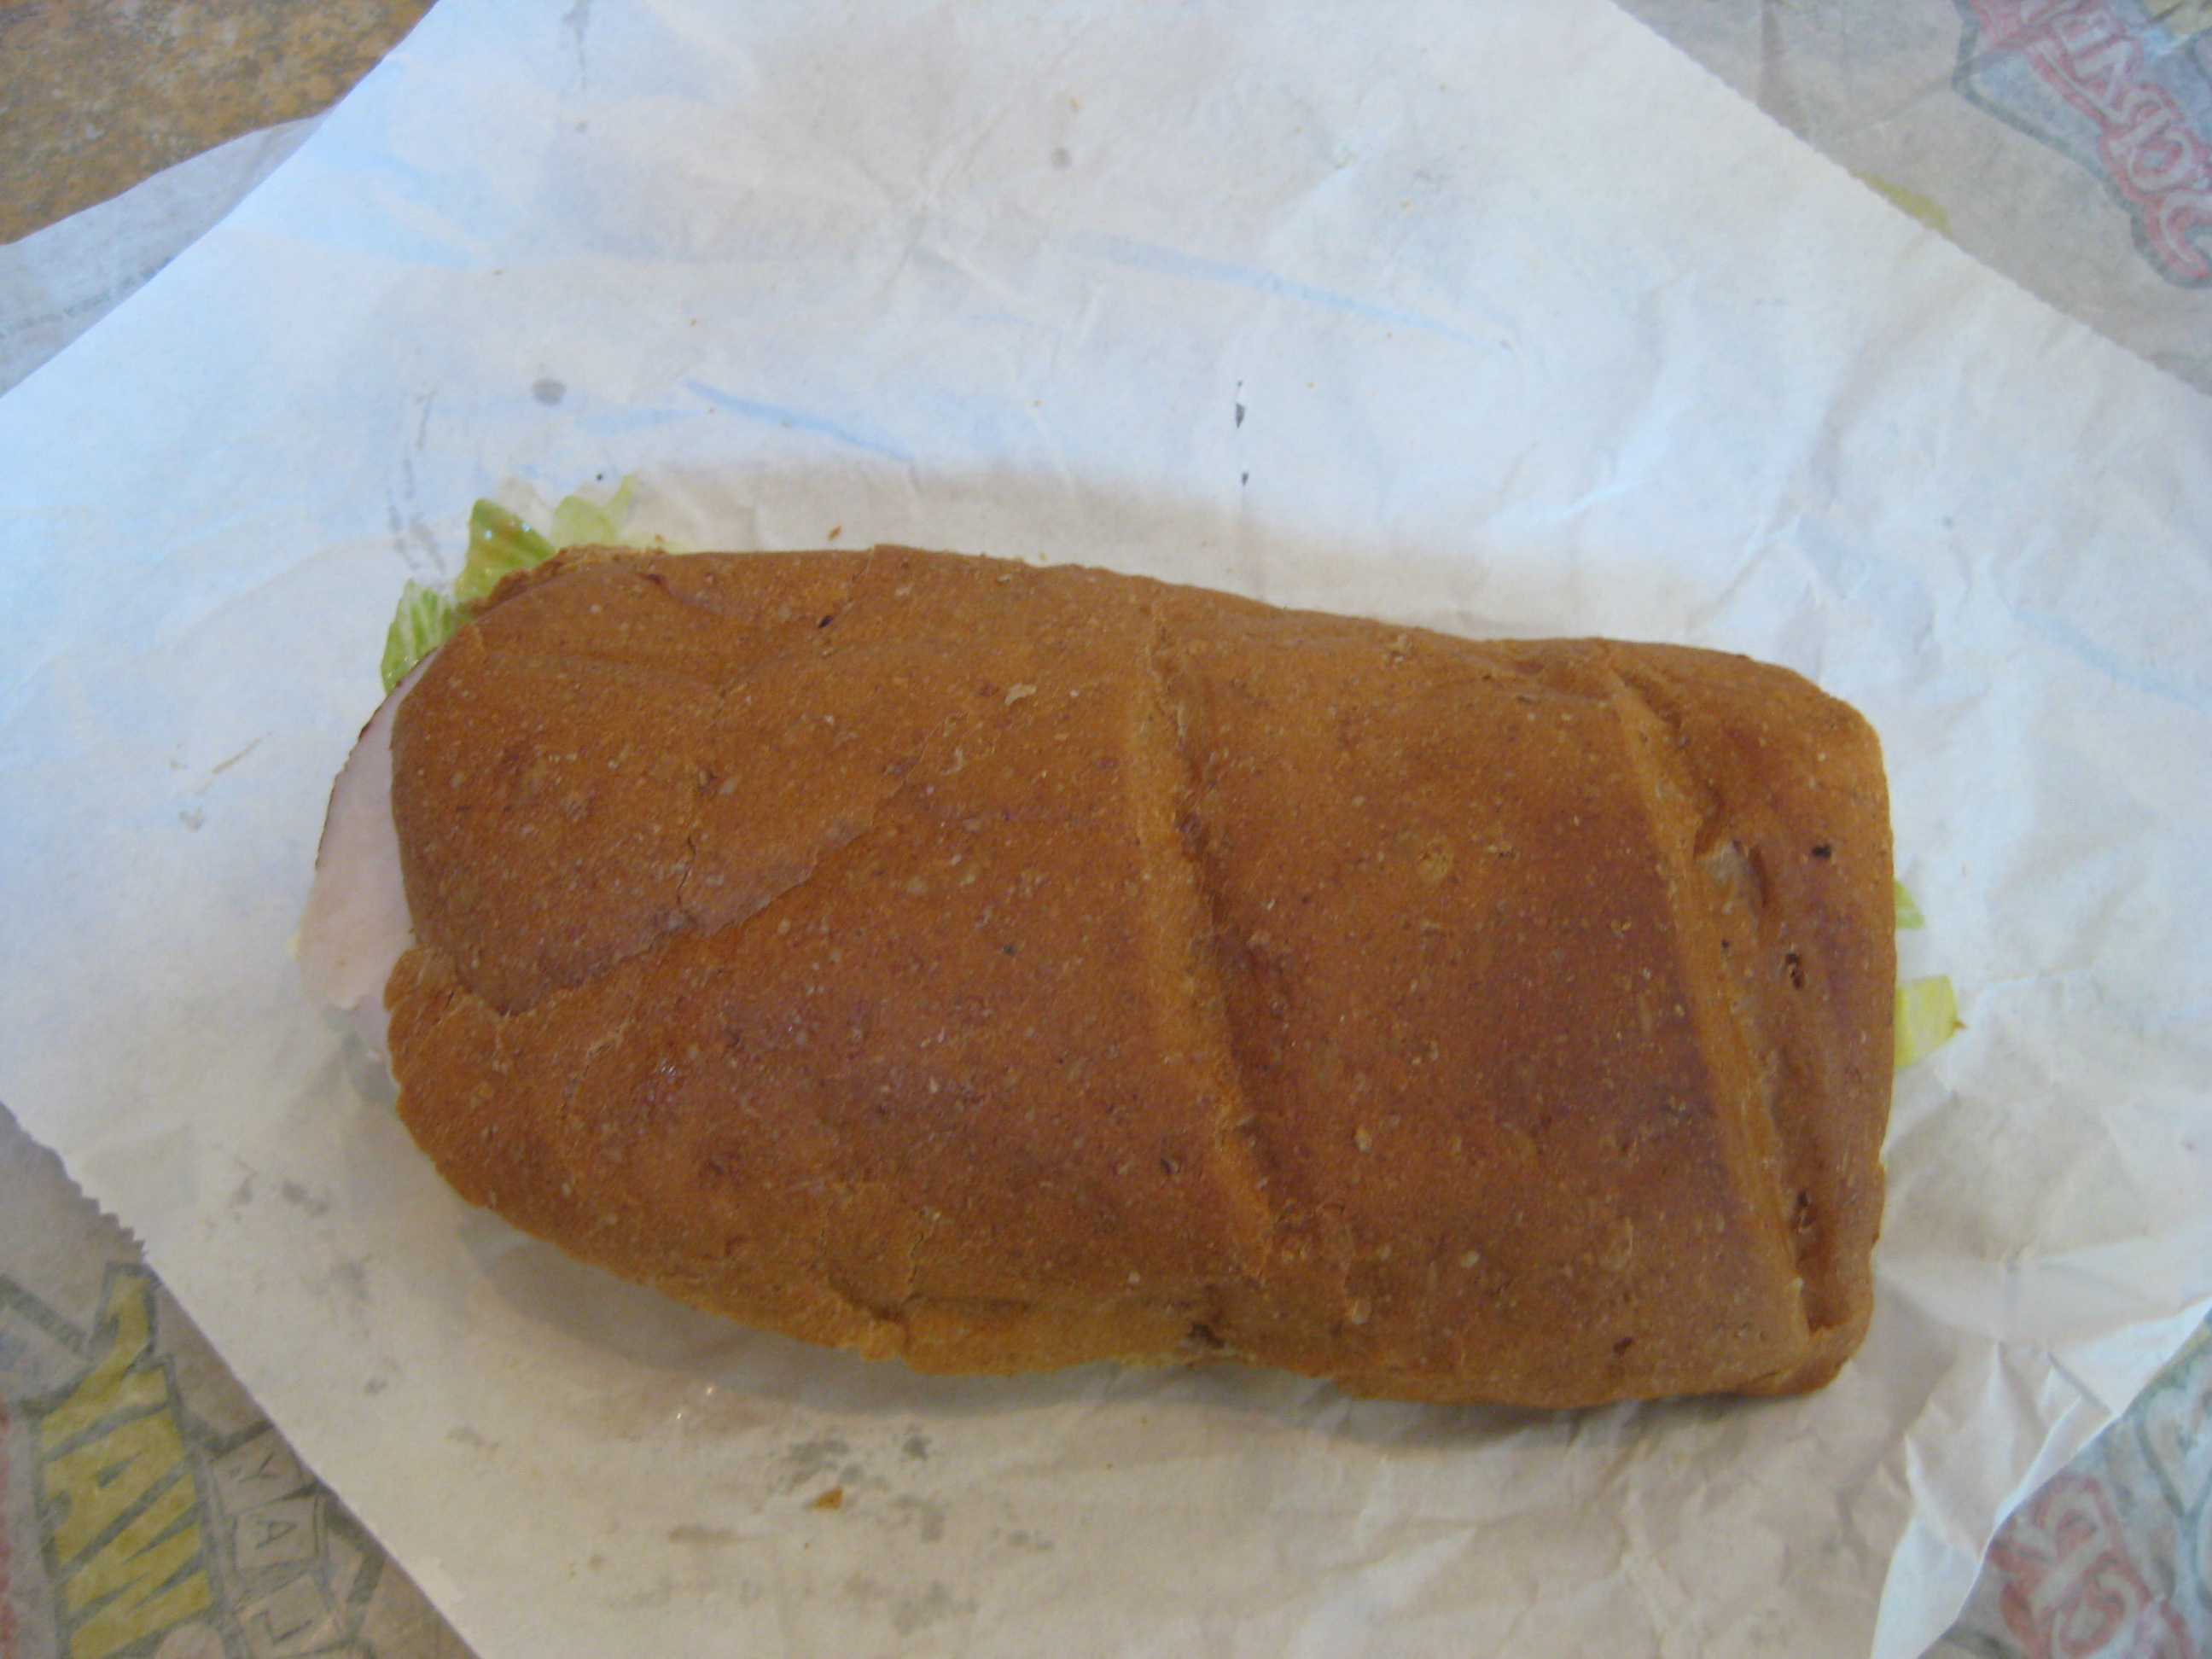sub: (281, 433, 1952, 1488)
